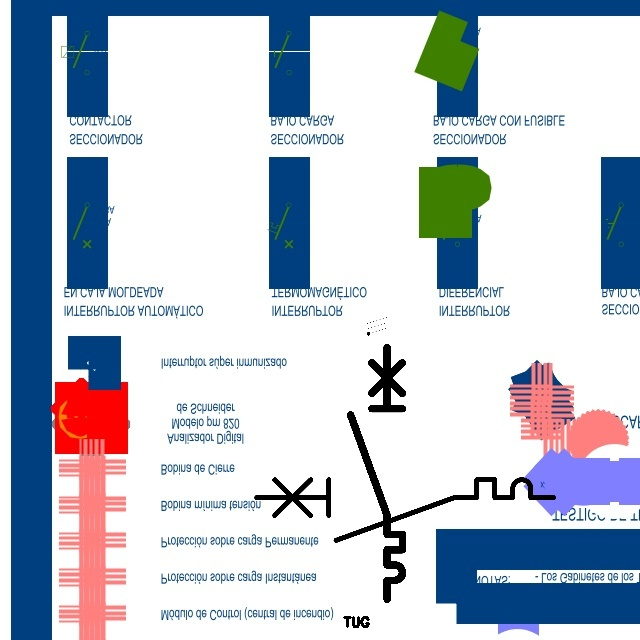interruptor_termomagnetico: (249, 472, 561, 548), (344, 341, 409, 606)
